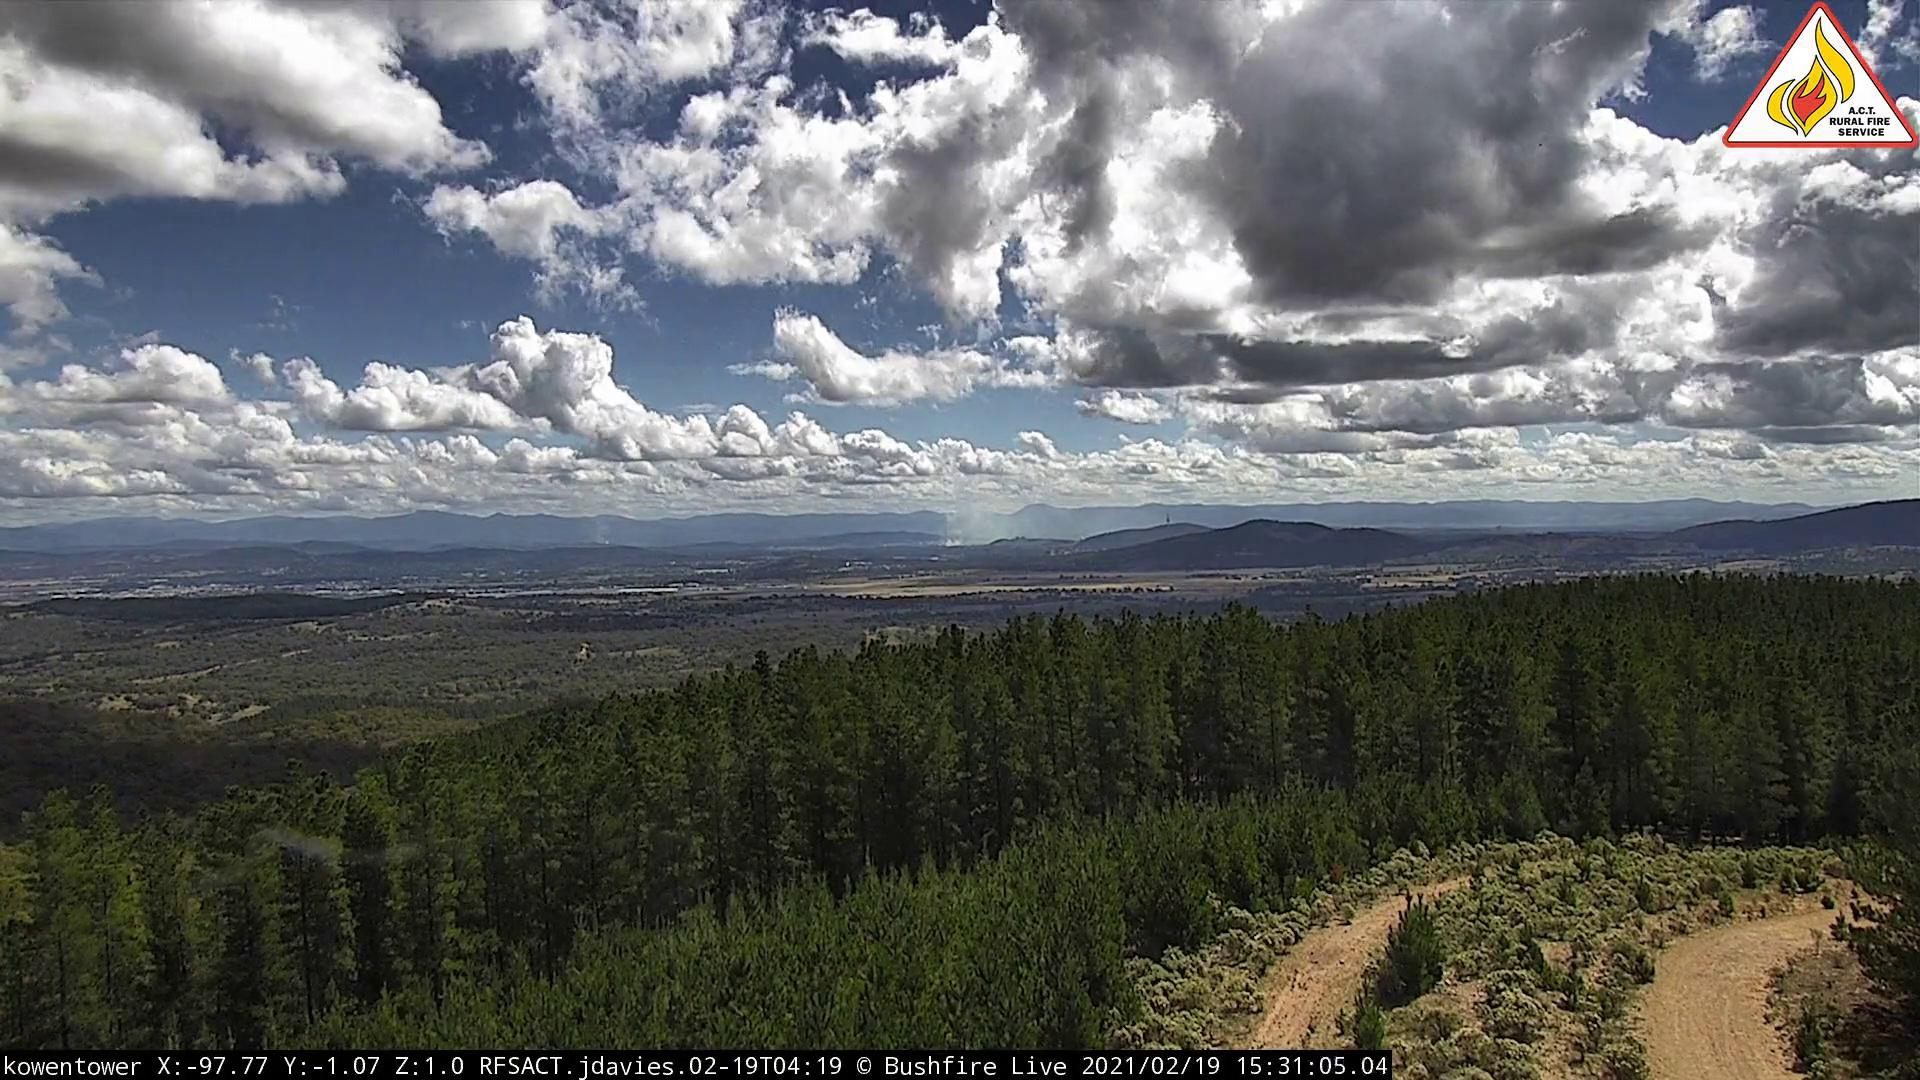Smoke: (939, 495, 1055, 551), (593, 529, 618, 553)
